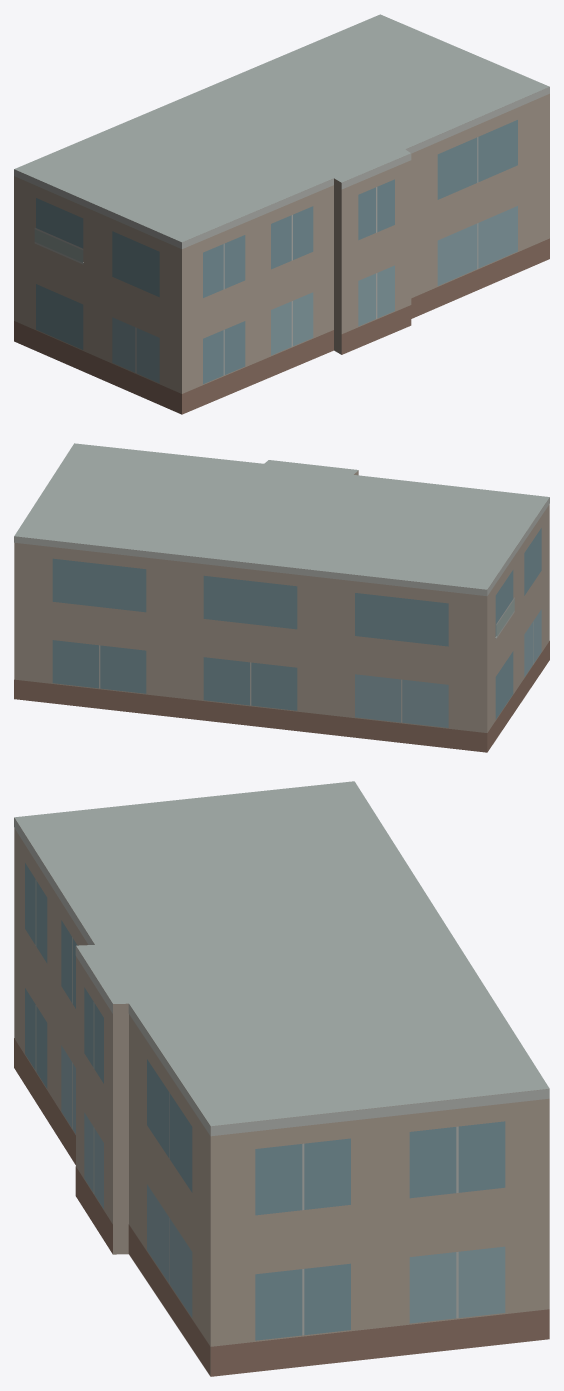
Rendered from survey-upis-32616235.glb.
The picture shows the model from 3 angles, top to bottom: view 1: azimuth 30°, elevation 25°; view 2: azimuth 150°, elevation 25°; view 3: azimuth 270°, elevation 25°; orthographic projection. The views are drawn at different scales.
Visible parts, largest first — view 1: survey-upis-32616235.tmp; view 2: survey-upis-32616235.tmp; view 3: survey-upis-32616235.tmp.
Part boxes in pixels (x1,y1,x2,y2): survey-upis-32616235.tmp: [14, 14, 549, 414]; survey-upis-32616235.tmp: [14, 443, 549, 752]; survey-upis-32616235.tmp: [14, 781, 549, 1376].
Bounding box in the file's own units: 18.04 × 6.1 × 11.83.
